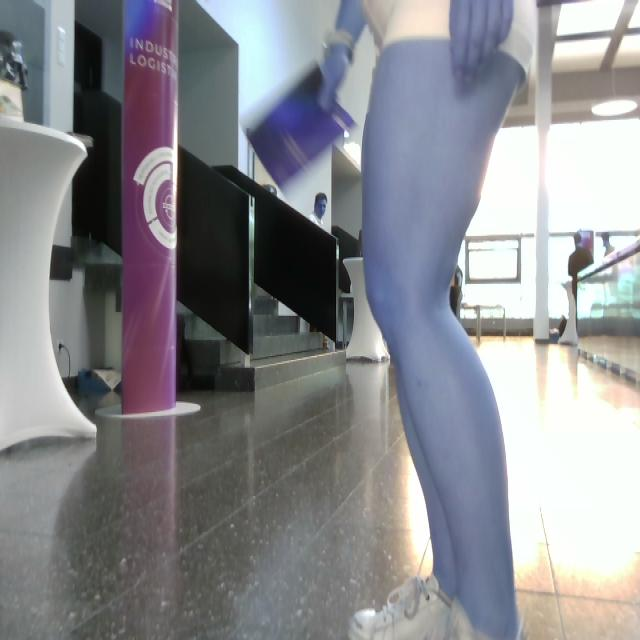light bulb: (240, 54, 356, 192)
person: (317, 1, 539, 640), (308, 193, 328, 228)
pillar: (121, 1, 180, 414)
staircase: (176, 146, 347, 392)
tiled floor: (2, 333, 639, 638)
